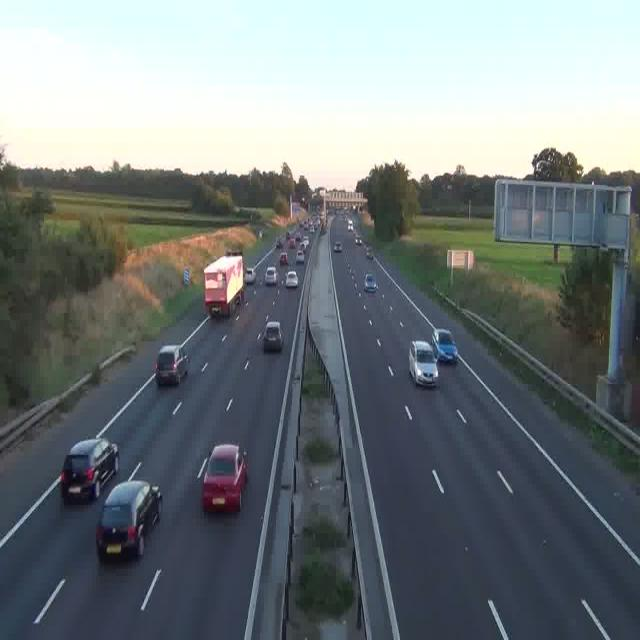car: (96, 482, 162, 560), (60, 438, 119, 503), (202, 444, 248, 513), (156, 344, 188, 385), (410, 340, 438, 385), (432, 329, 456, 364), (263, 321, 283, 350), (262, 266, 276, 284), (364, 273, 376, 292), (286, 270, 298, 289), (244, 268, 256, 284), (279, 252, 288, 266), (295, 251, 304, 264), (276, 237, 284, 250), (334, 241, 342, 252), (366, 247, 374, 258)
truck: (204, 255, 244, 318)
